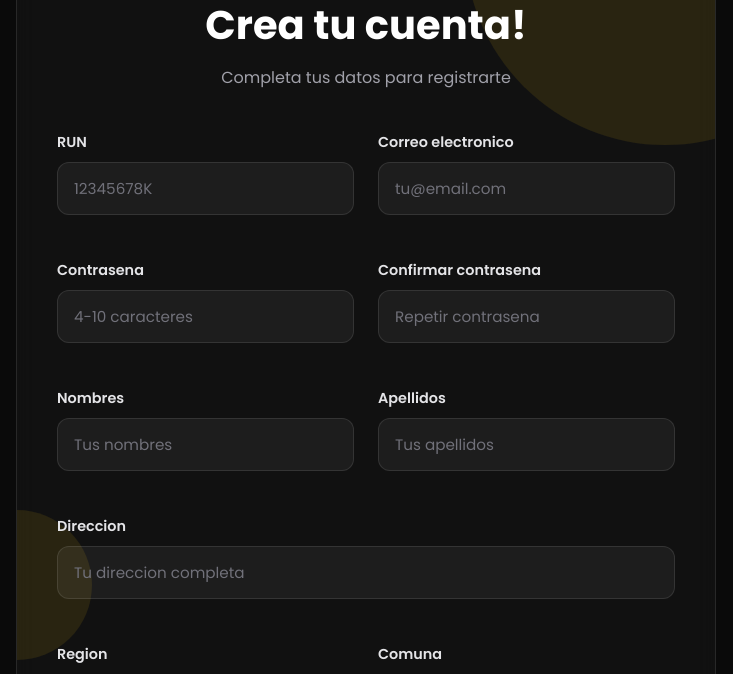
Scenario: Registro › Validaciones de formulario › debe mostrar error cuando las contraseñas no coinciden
Type "12345678-9" into the field with placeholder "12345678K" at (206,188), box top-left (57, 162), bottom-right (354, 215)
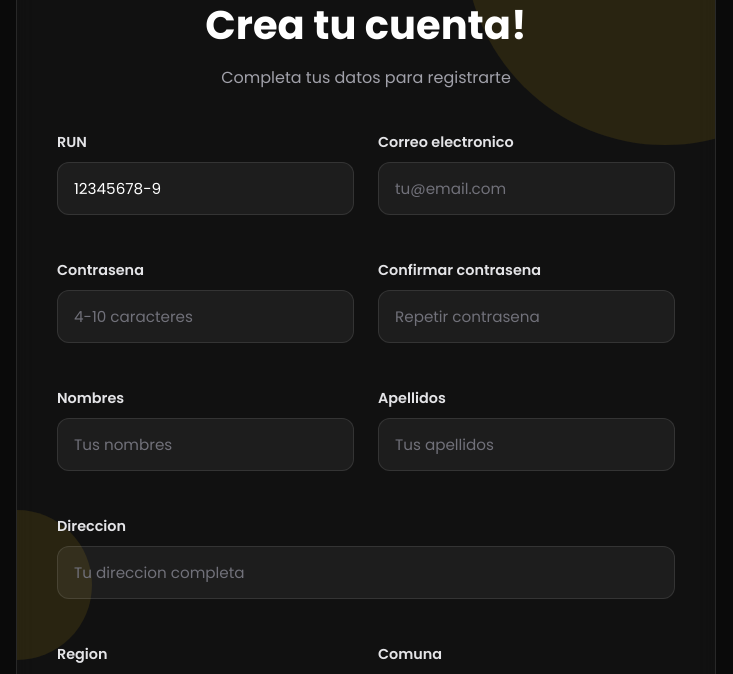
Type "test@example.com" into the field with placeholder "tu@email.com" at (526,188), box top-left (378, 162), bottom-right (675, 215)
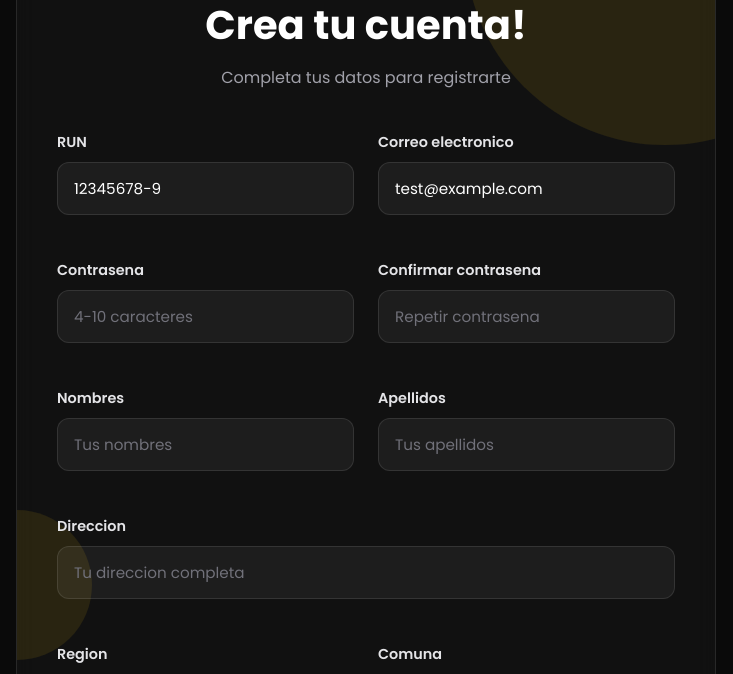
Type "pass1234" into the password field with placeholder "4-10 caracteres" at (206,316), box top-left (57, 290), bottom-right (354, 343)
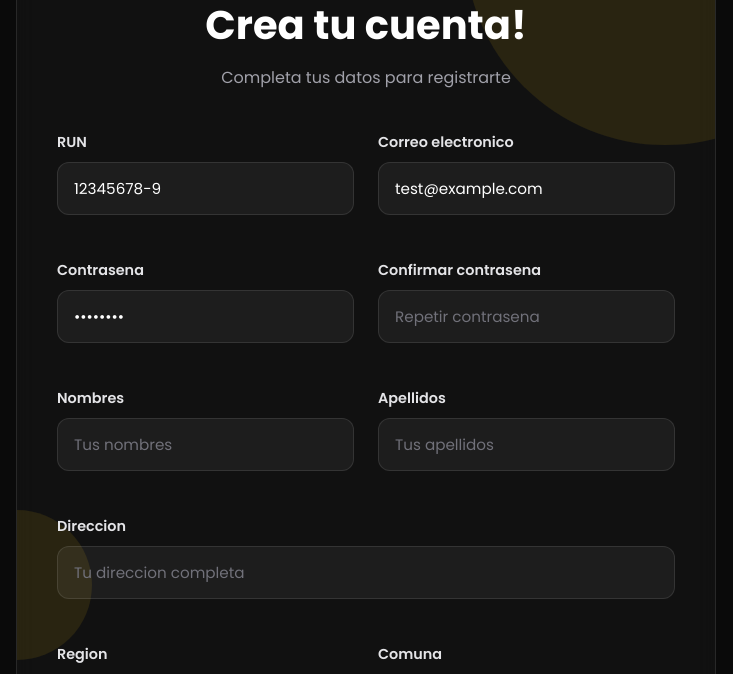
Type "pass5678" into the password field with placeholder "Repetir contrasena" at (526,316), box top-left (378, 290), bottom-right (675, 343)
(page scrolled)
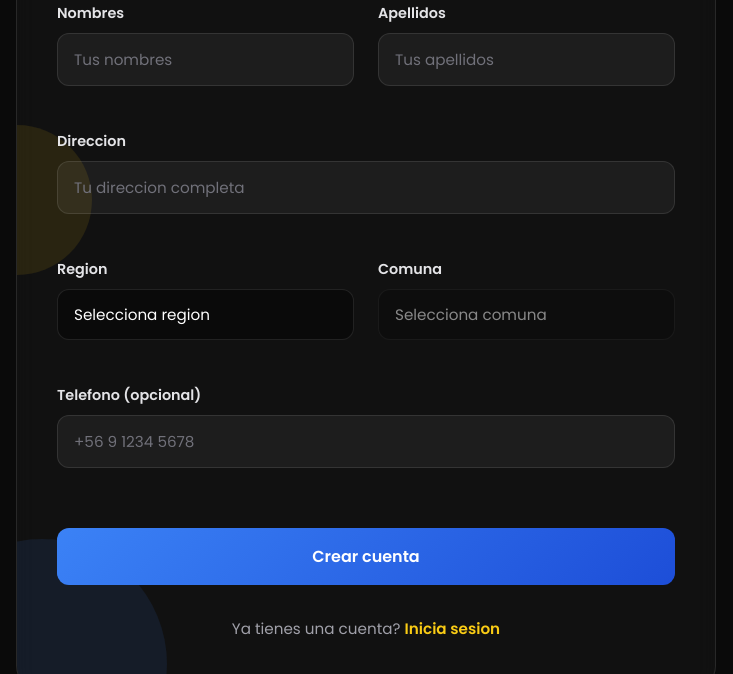
Click the button "Crear cuenta" at (366,556), box top-left (57, 528), bottom-right (675, 585)
(page scrolled)
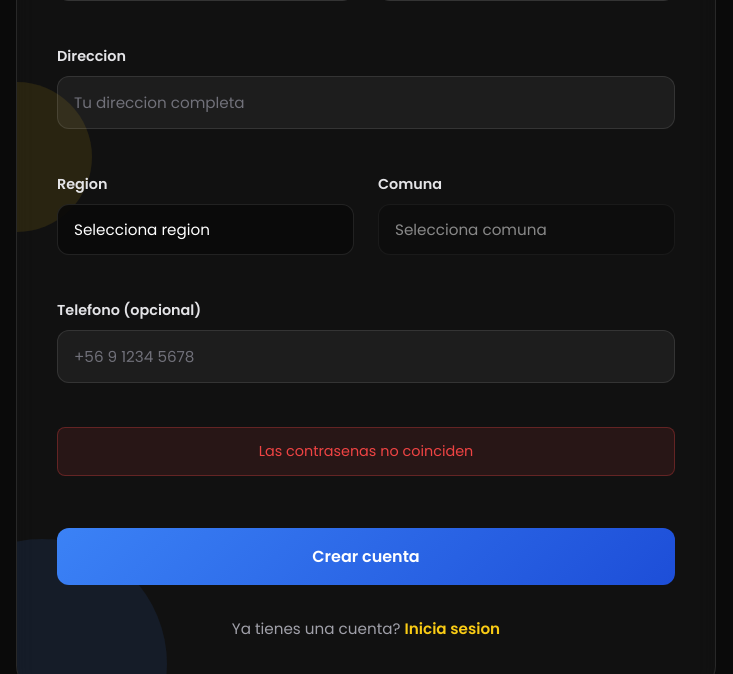
Result: the text "Las contrasenas no coinciden" is shown at top-left (57, 427), bottom-right (675, 476)
